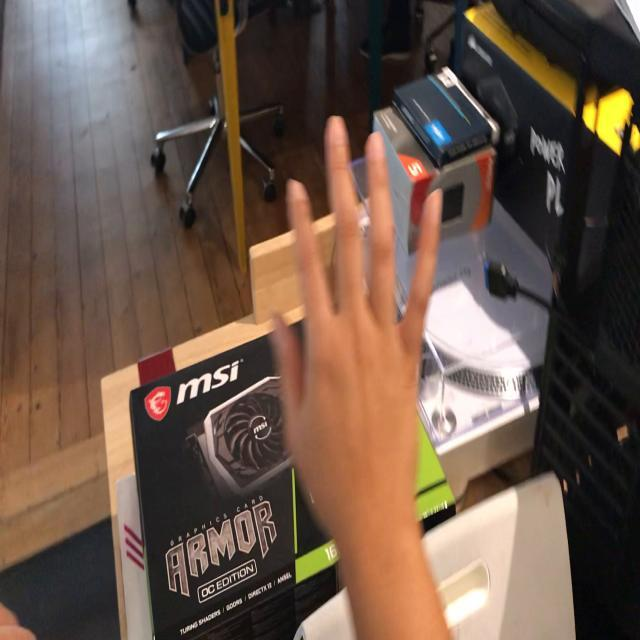no-gloves: (267, 111, 442, 532)
